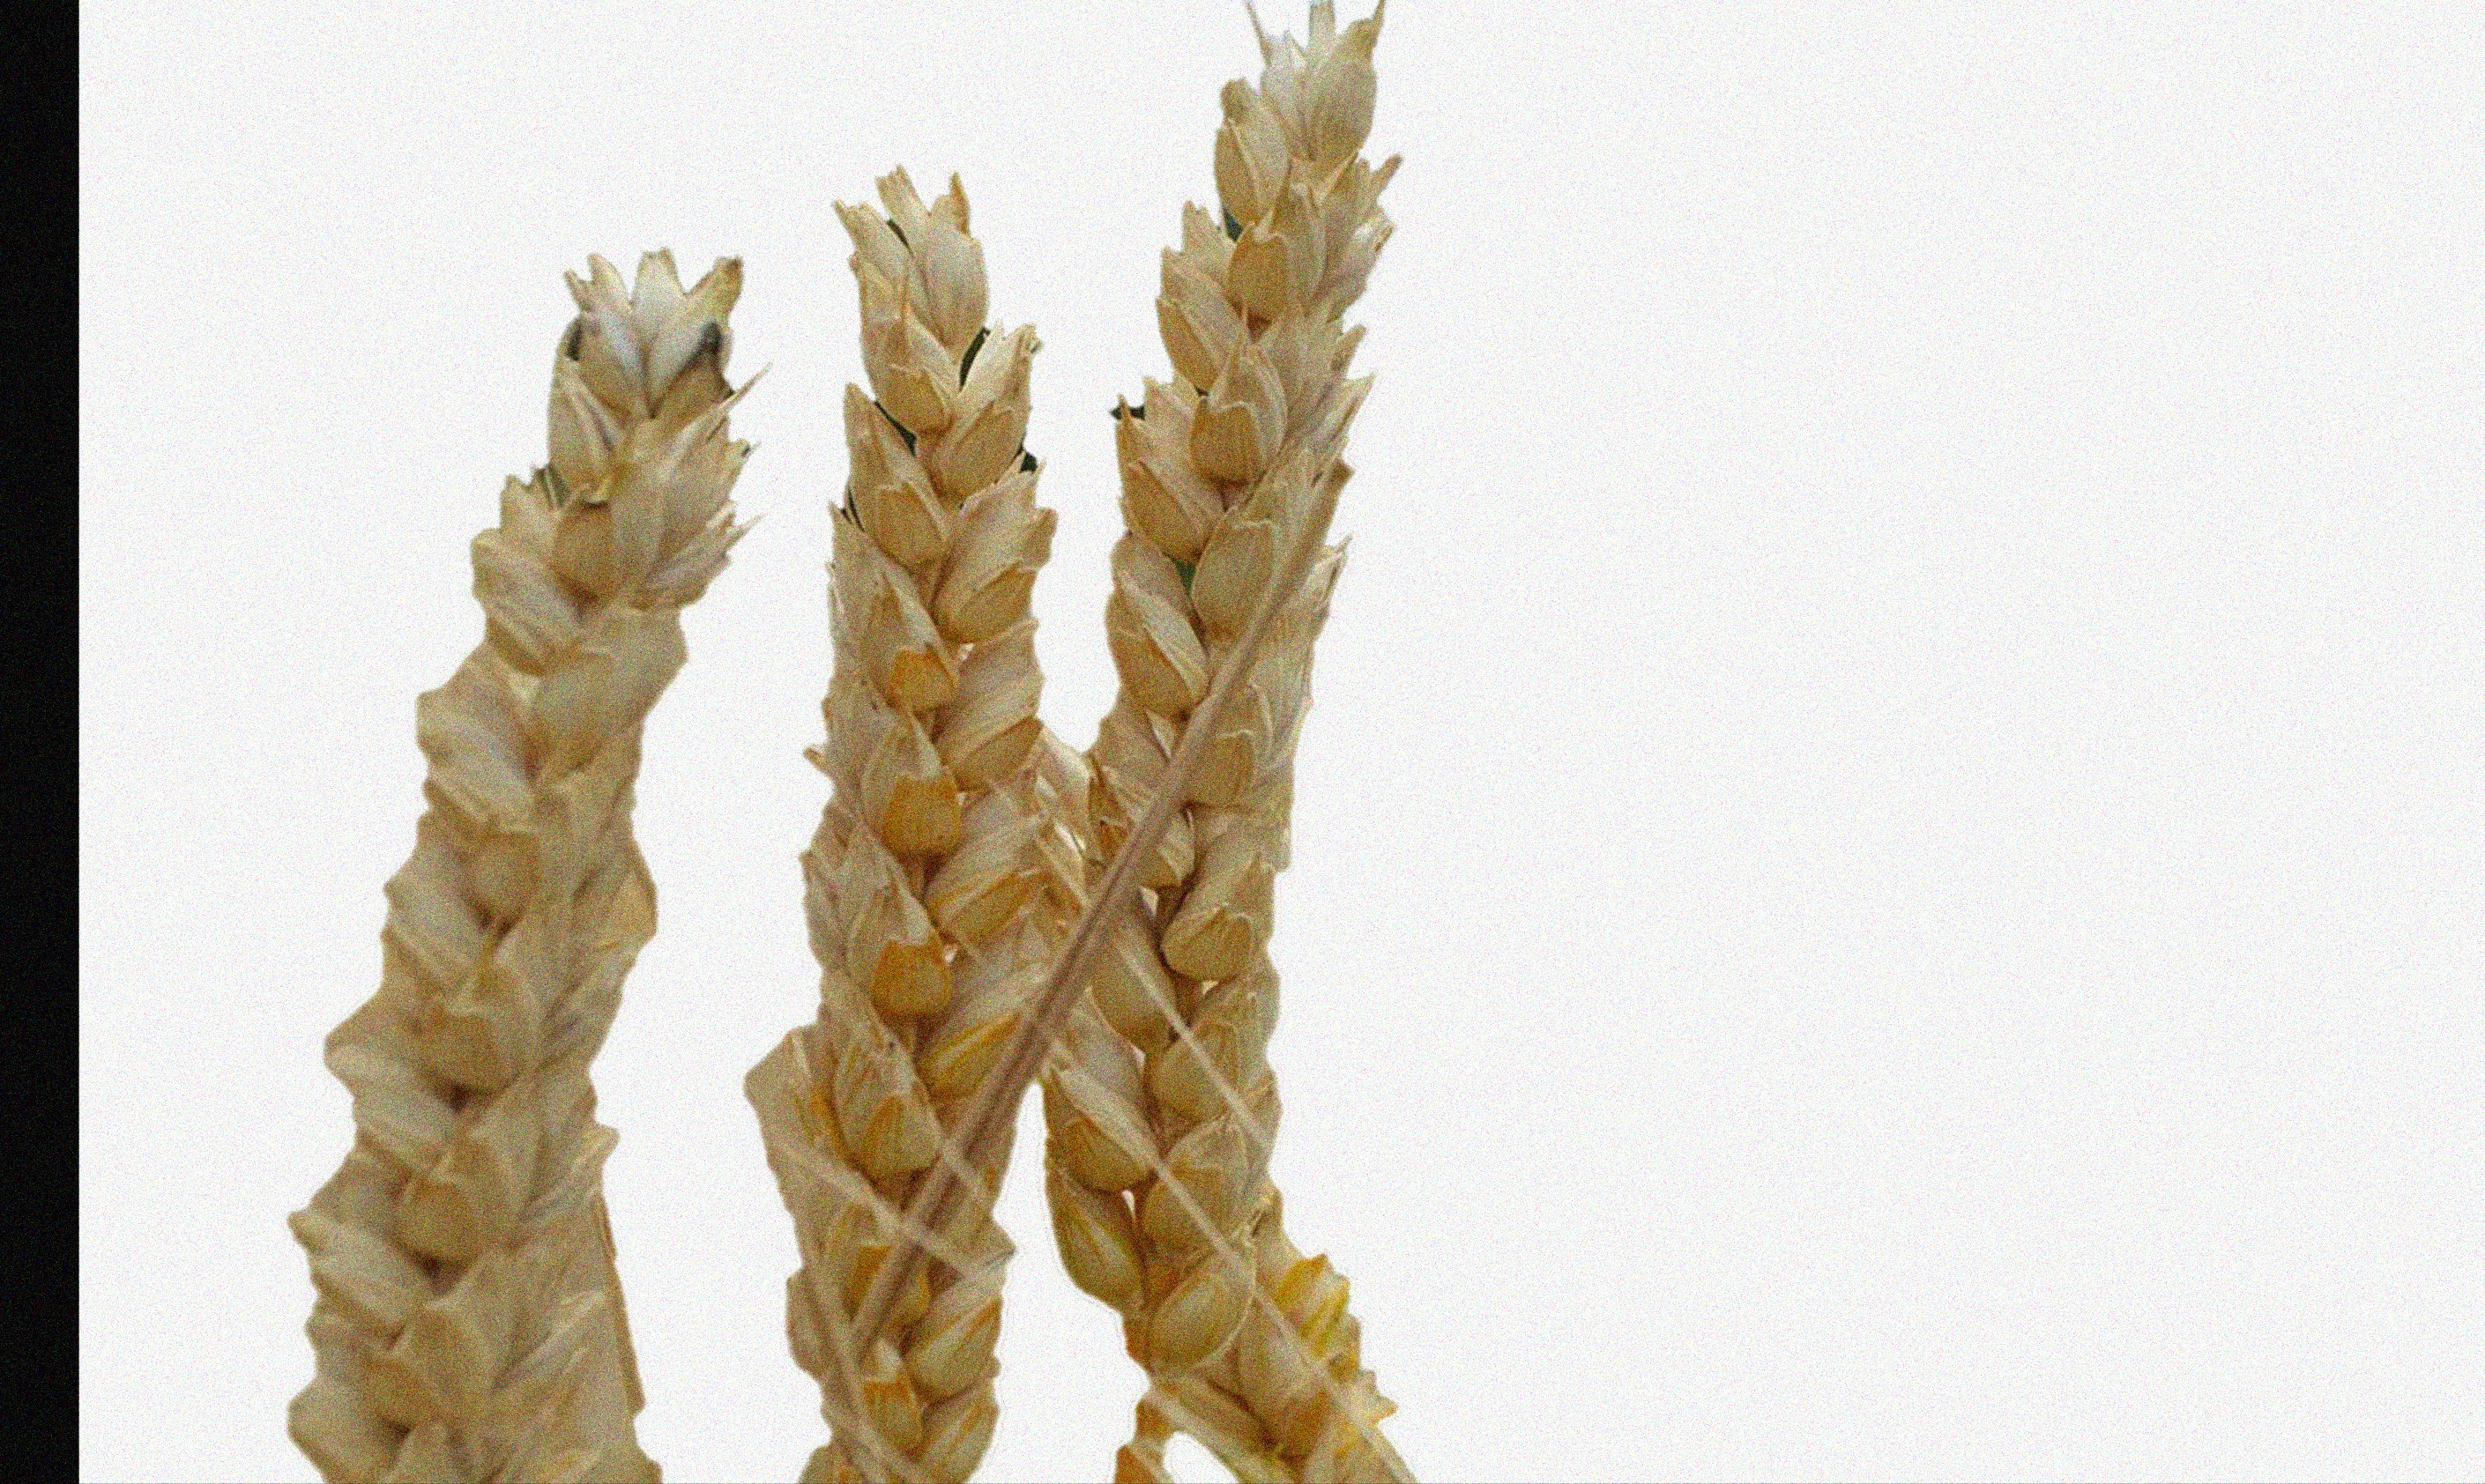wheat: (267, 239, 741, 1480), (1071, 0, 1425, 1465), (762, 115, 1068, 1477)
